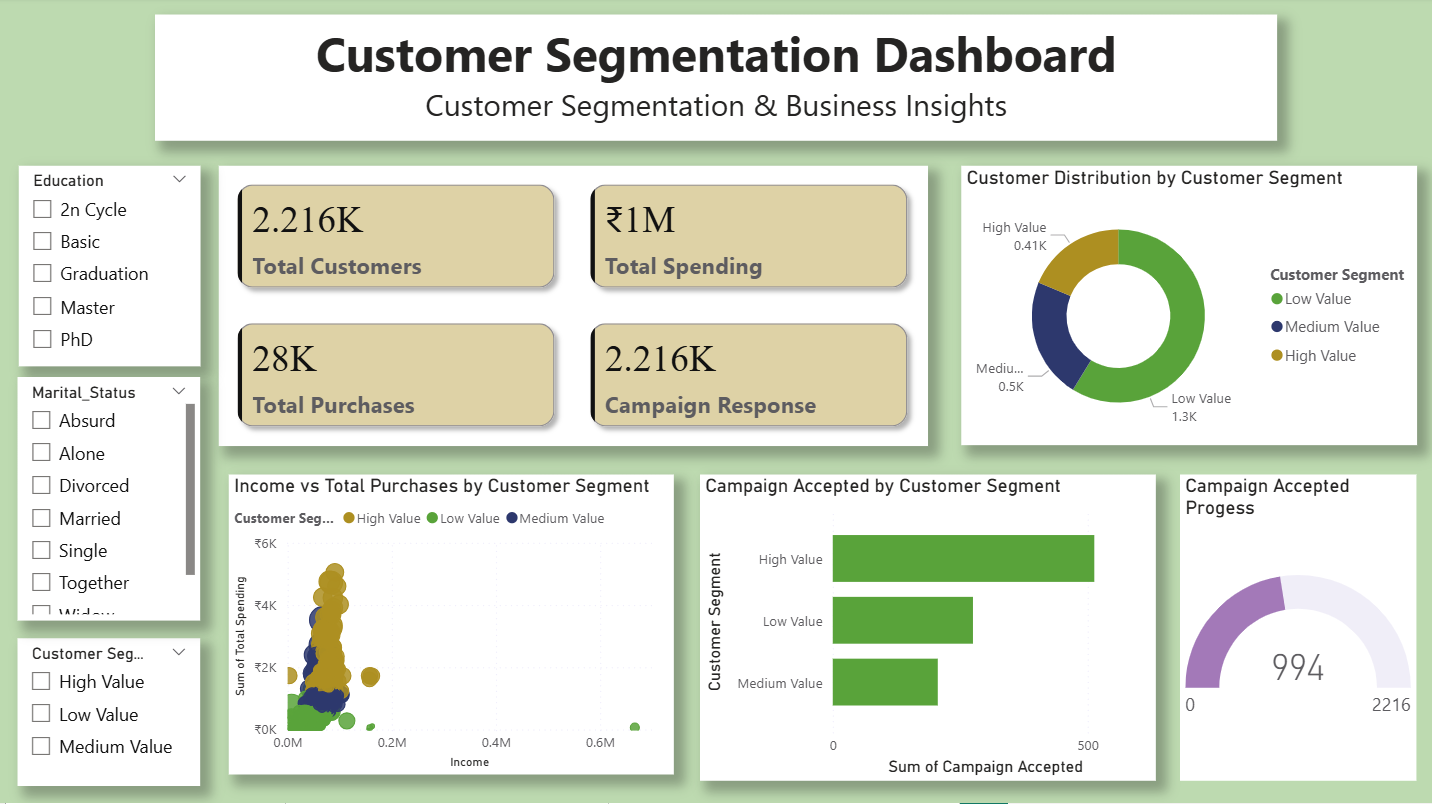

This screenshot's page, from the dashboard's own definition file:
{"tool":"powerbi","page":{"name":"Customer Segmentation & Business Insights","canvas":[1280,720],"ordinal":2},"visuals":[{"type":"textbox","box":[138.1,15.6,1002.6,112.9],"z":0},{"type":"cardVisual","fields":{"Data":["Count(marketing_campaign.ID)","Sum(marketing_campaign.Total Spending)","Sum(marketing_campaign.Total Purchases)","CountNonNull(marketing_campaign.Response)"]},"box":[195.3,151.2,633.7,250],"z":1000},{"type":"slicer","fields":{"Values":["marketing_campaign.Education"]},"box":[16.3,151.2,162.8,179.1],"z":2000},{"type":"slicer","fields":{"Values":["marketing_campaign.Customer Segment"]},"box":[15.6,572.8,163.3,132.1],"z":3000},{"type":"slicer","fields":{"Values":["marketing_campaign.Marital_Status"]},"box":[15.6,339.8,163.3,217.3],"z":4000},{"type":"donutChart","title":"Customer Distribution by Customer Segment","fields":{"Category":["marketing_campaign.Customer Segment"],"Y":["CountNonNull(marketing_campaign.ID)"]},"box":[858.5,151.3,407.1,249.8],"z":5000},{"type":"scatterChart","title":"Income vs  Total Purchases by Customer Segment ","fields":{"Series":["marketing_campaign.Customer Segment"],"Y":["Sum(marketing_campaign.Total Spending)"],"X":["marketing_campaign.Income"],"Size":["Sum(marketing_campaign.Total Purchases)"]},"box":[204.1,426.3,397.4,267.8],"z":6000},{"type":"clusteredBarChart","title":" Campaign Accepted by Customer Segment","fields":{"Category":["marketing_campaign.Customer Segment"],"Y":["Sum(marketing_campaign.Campaign Accepted)"]},"box":[625.6,426.3,407.1,273.8],"z":7000},{"type":"gauge","title":" Campaign Accepted Progess","fields":{"Y":["Sum(marketing_campaign.Campaign Accepted)"],"MaxValue":["CountNonNull(marketing_campaign.ID)"]},"box":[1054.3,426.3,211.3,273.8],"z":8000}]}

Visuals, with their boxes in screenshot pixels (x1, y1, x2, y2), scaled from the page's 1280x720 canvas onto the 1432x804 screenshot:
textbox: {"left": 154, "top": 17, "right": 1276, "bottom": 143}
cardVisual - Count(marketing_campaign.ID) x Sum(marketing_campaign.Total Spending): {"left": 218, "top": 169, "right": 927, "bottom": 448}
slicer - marketing_campaign.Education: {"left": 18, "top": 169, "right": 200, "bottom": 369}
slicer - marketing_campaign.Customer Segment: {"left": 17, "top": 640, "right": 200, "bottom": 787}
slicer - marketing_campaign.Marital_Status: {"left": 17, "top": 379, "right": 200, "bottom": 622}
"Customer Distribution by Customer Segment" donutChart: {"left": 960, "top": 169, "right": 1416, "bottom": 448}
"Income vs  Total Purchases by Customer Segment " scatterChart: {"left": 228, "top": 476, "right": 673, "bottom": 775}
" Campaign Accepted by Customer Segment" clusteredBarChart: {"left": 700, "top": 476, "right": 1155, "bottom": 782}
" Campaign Accepted Progess" gauge: {"left": 1179, "top": 476, "right": 1416, "bottom": 782}
